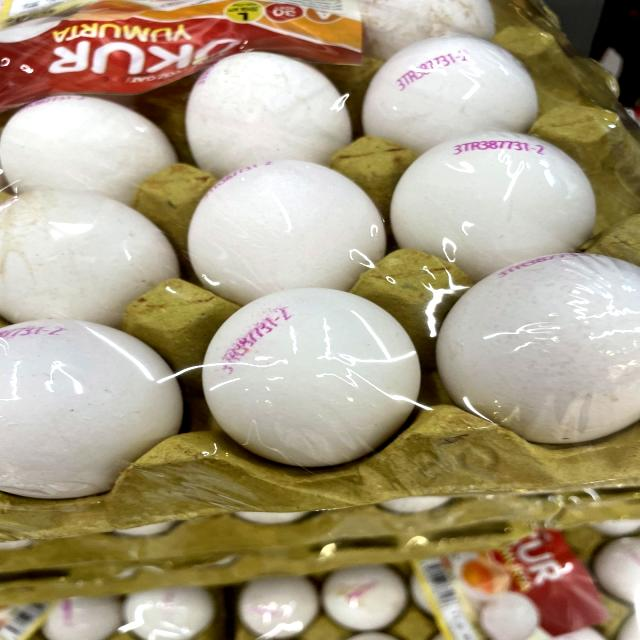egg: (425, 249, 640, 451), (194, 286, 426, 473), (0, 312, 173, 506), (177, 151, 392, 303), (391, 125, 604, 271), (180, 47, 356, 175)
